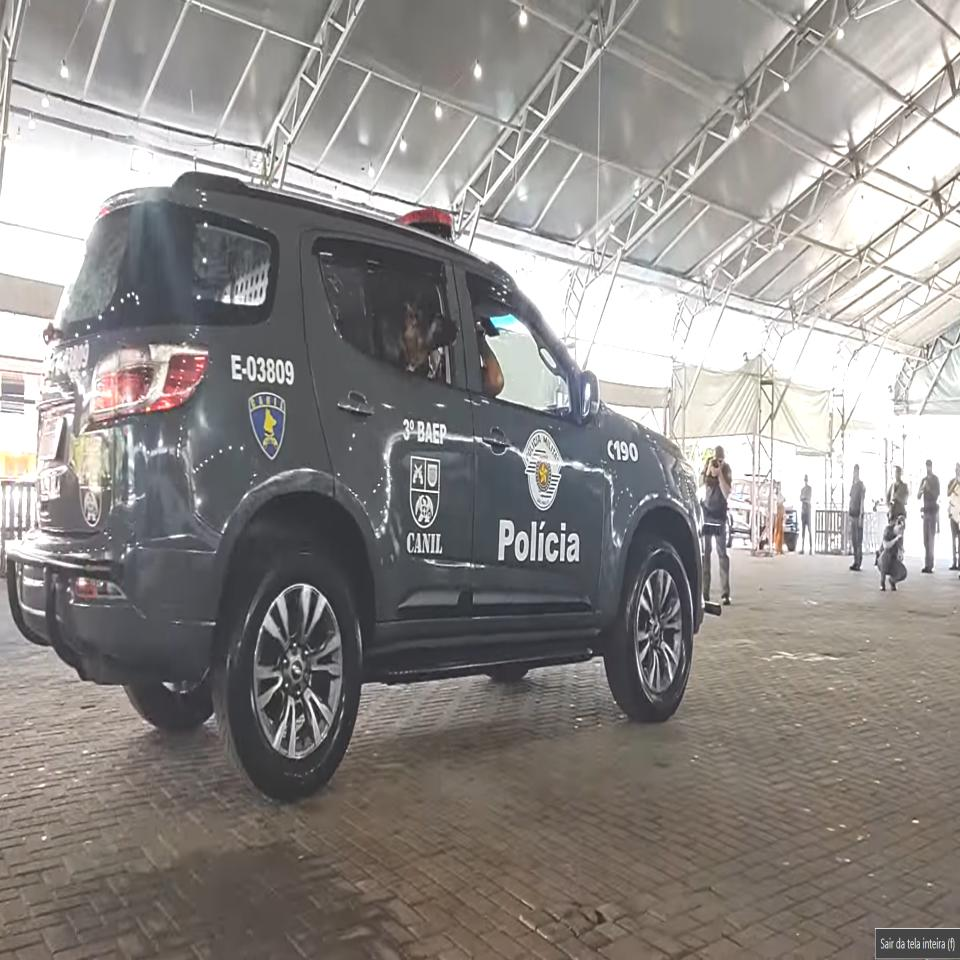viatura: (0, 166, 724, 798)
